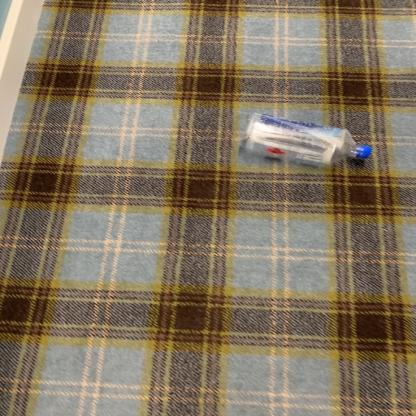trash: (237, 112, 374, 168)
